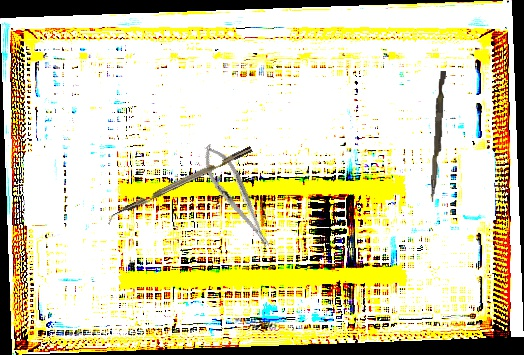Chopper: (104, 146, 256, 227)
Needle Holder: (193, 138, 280, 255)
Pusher: (430, 70, 446, 203)
